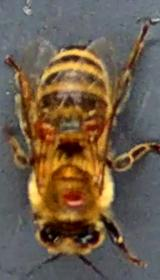varroa_mite: (82, 108, 113, 146), (27, 108, 62, 138), (59, 178, 90, 209)
